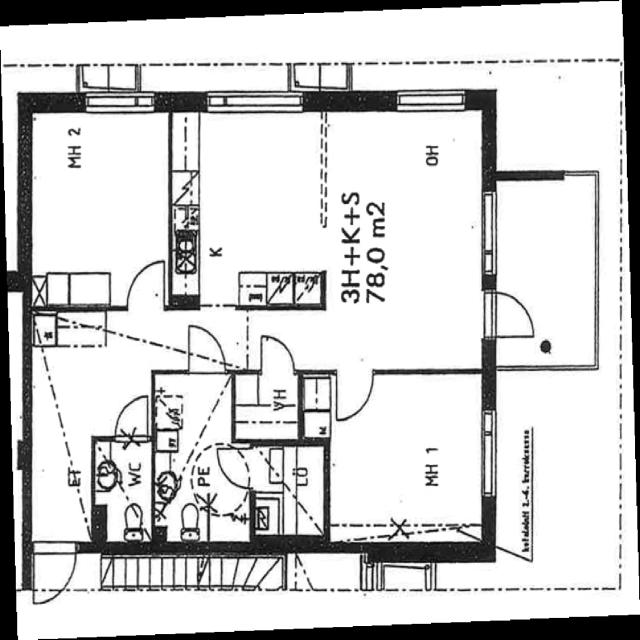door: (480, 283, 540, 344), (30, 542, 81, 607), (124, 255, 170, 312), (333, 367, 378, 424), (107, 391, 154, 440), (184, 321, 228, 372), (253, 332, 300, 379), (217, 446, 254, 490)
window: (202, 88, 310, 120), (475, 399, 502, 507), (475, 182, 503, 282), (389, 84, 470, 118), (78, 88, 159, 118), (476, 281, 502, 349)
zone: (209, 87, 478, 366), (172, 104, 332, 306), (25, 103, 172, 311), (329, 369, 490, 547), (486, 171, 603, 367), (153, 368, 247, 543), (250, 443, 326, 542), (93, 435, 153, 549), (232, 372, 300, 441)
